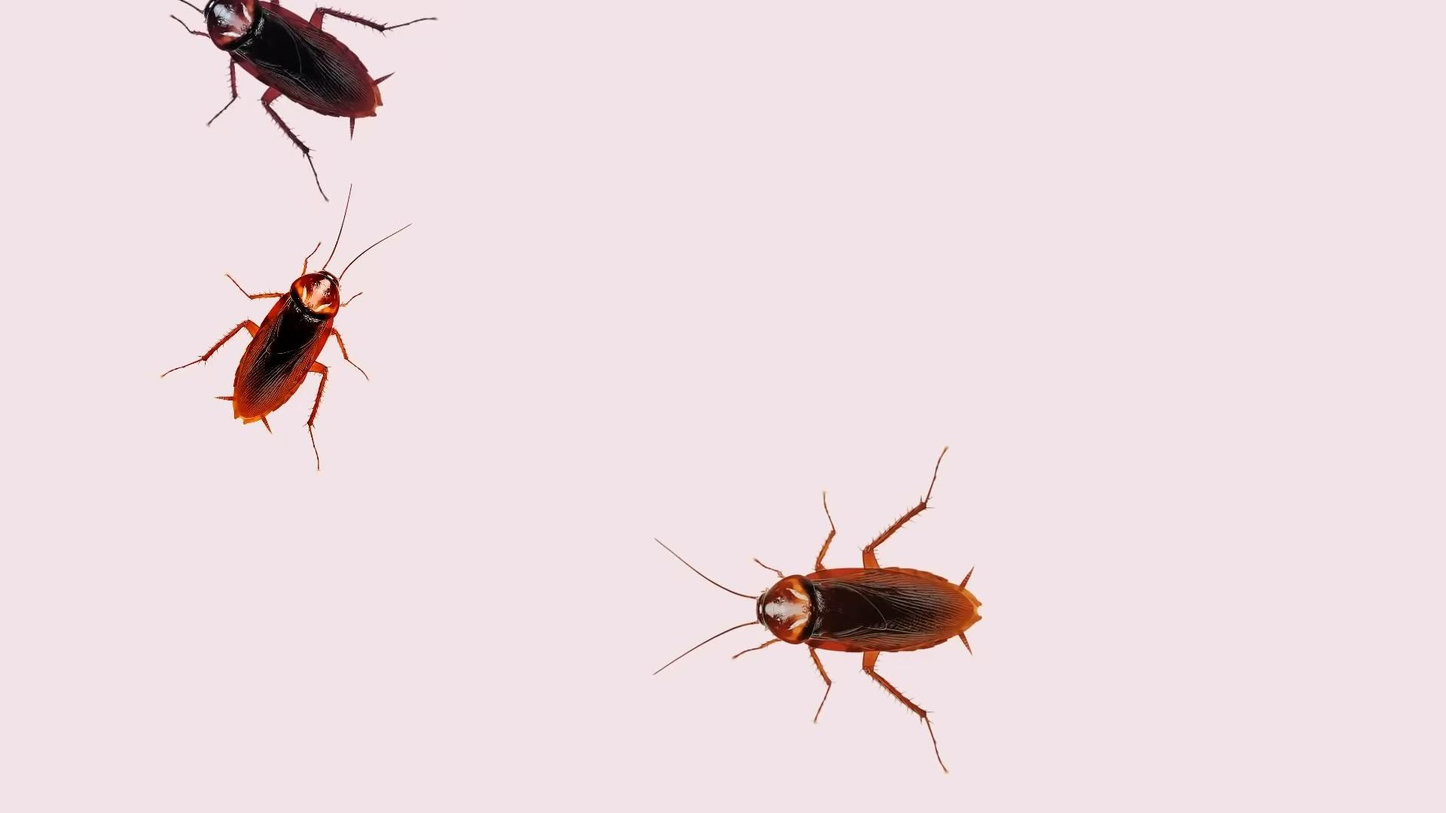cockroach: (623, 480, 1028, 760), (184, 214, 387, 465), (164, 0, 422, 196)
